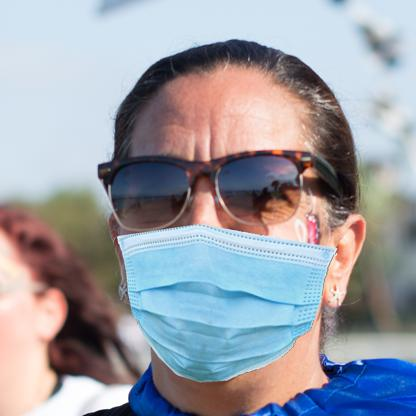mask: (114, 224, 337, 385)
